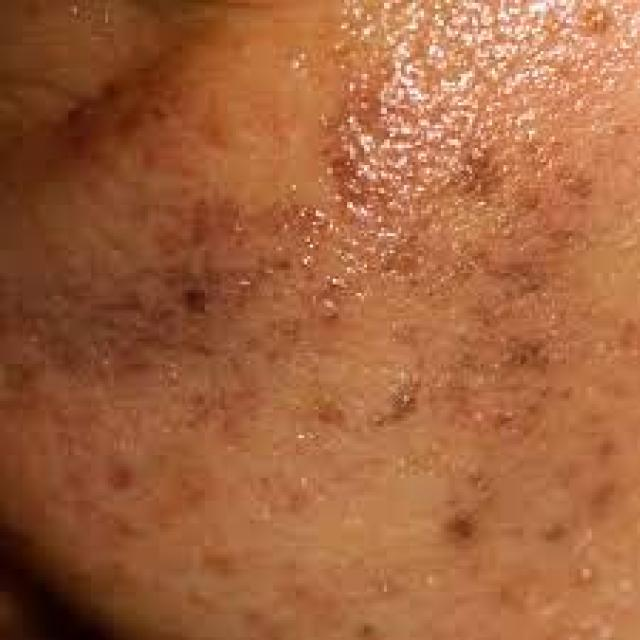pigmentation: (43, 132, 614, 435)
